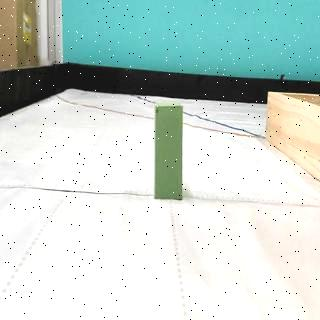greenbox: (154, 104, 182, 202)
